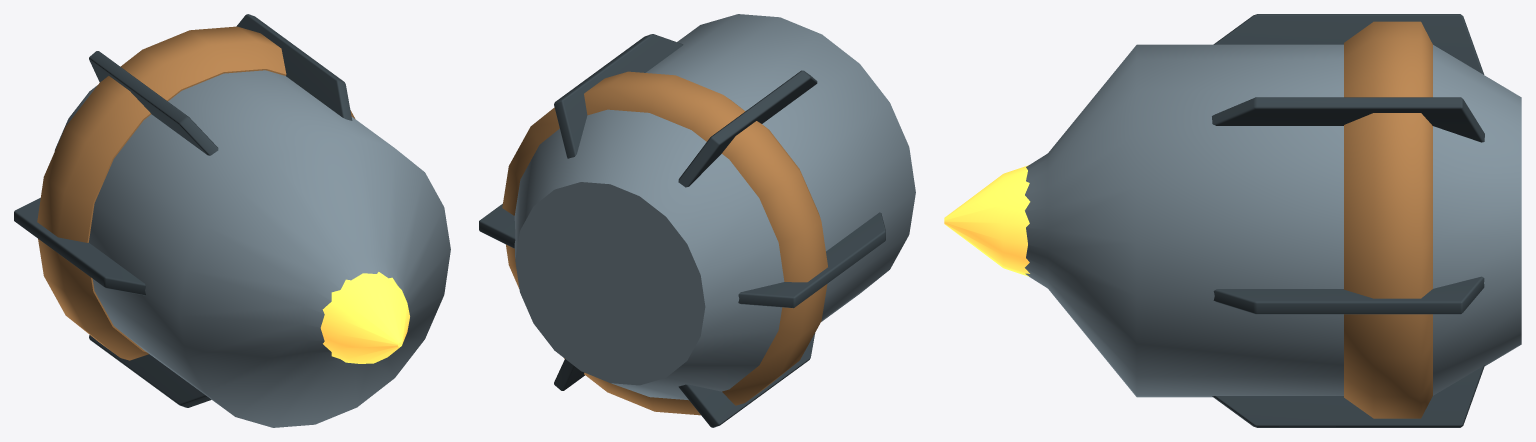
File: zb_grenade_launcher.glb
3 views of the same model, side by side, from view 1: azimuth 30°, elevation 25°; view 2: azimuth 150°, elevation 25°; view 3: azimuth 270°, elevation 25° (orthographic). The views are drawn at different scales.
Parts seen in each view (by area): view 1: zb_grenade_launcher / Machined titanium, zb_grenade_launcher / Copper driving band, zb_grenade_launcher / Carbon ceramic, zb_grenade_launcher / Tracer ember; view 2: zb_grenade_launcher / Machined titanium, zb_grenade_launcher / Copper driving band, zb_grenade_launcher / Carbon ceramic; view 3: zb_grenade_launcher / Machined titanium, zb_grenade_launcher / Copper driving band, zb_grenade_launcher / Carbon ceramic, zb_grenade_launcher / Tracer ember.
Boxes of the visible parts, x1,y1,x2,y2 form: zb_grenade_launcher / Machined titanium: (54, 70, 450, 427); zb_grenade_launcher / Copper driving band: (37, 26, 355, 360); zb_grenade_launcher / Carbon ceramic: (14, 14, 352, 407); zb_grenade_launcher / Tracer ember: (320, 272, 409, 363); zb_grenade_launcher / Machined titanium: (514, 14, 915, 400); zb_grenade_launcher / Copper driving band: (502, 71, 827, 415); zb_grenade_launcher / Carbon ceramic: (479, 34, 885, 427); zb_grenade_launcher / Machined titanium: (1025, 44, 1521, 397); zb_grenade_launcher / Copper driving band: (1344, 21, 1432, 418); zb_grenade_launcher / Carbon ceramic: (1212, 14, 1484, 427); zb_grenade_launcher / Tracer ember: (944, 165, 1030, 276).
Size of the model in its own units: 14 by 13.56 by 19.5.
